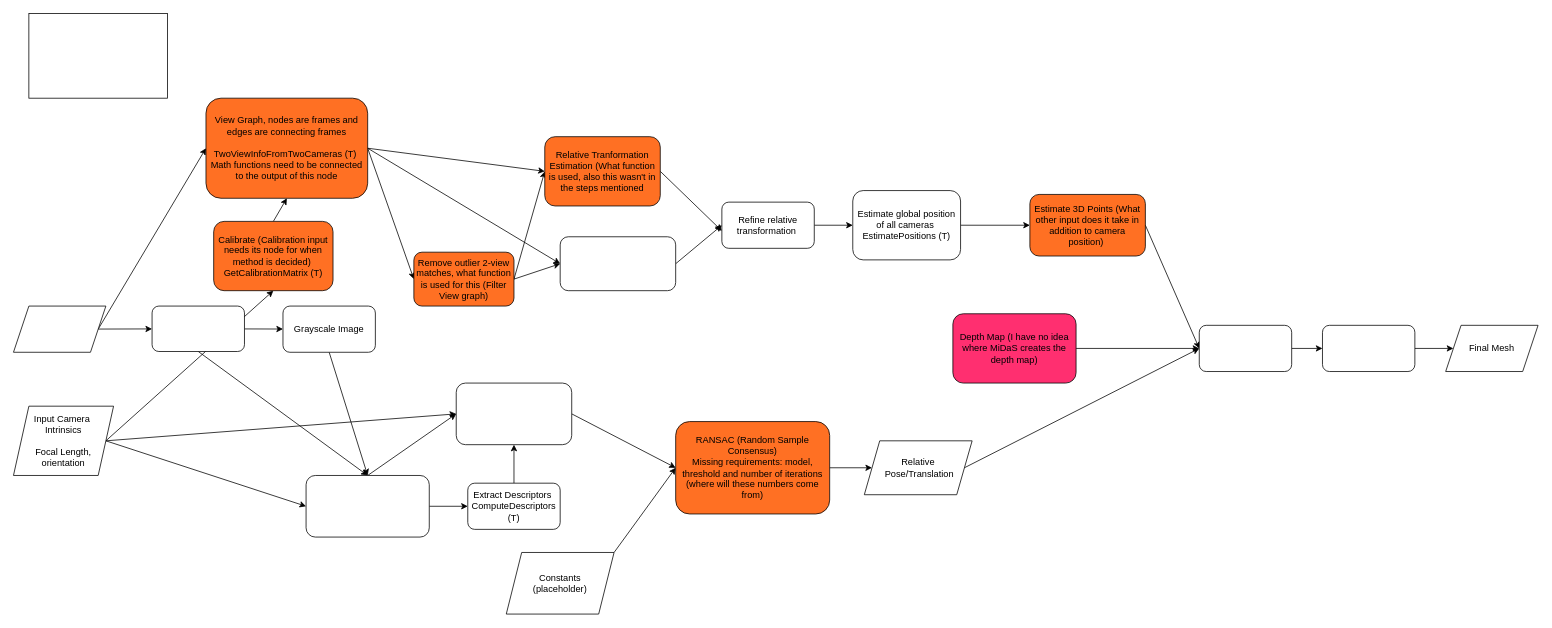
Some shapes in this 1552 by 628 pixel diagram are drawn without their labels. The shapes that lost their labels are listed below. From the top down, each one's centre as x and y in pixels, then its label:
point (97, 55): Legend: Nothing: We make it (T): Code from Theia
point (617, 263): Global Orientation Estimation RotationEstimator (T)
point (59, 328): Input Camera Frames
point (197, 328): Transform to RGB Matrices FloatImage (T)
point (1245, 348): Point Cloud generation per frame
point (1368, 348): Fuse Together Point Clouds
point (513, 413): Returns matched features between images AddImage (T) ImagePairMatch (T)
point (367, 506): Detect and Store Keypoints (Corners, edges) DetectKeyPoints (T)
